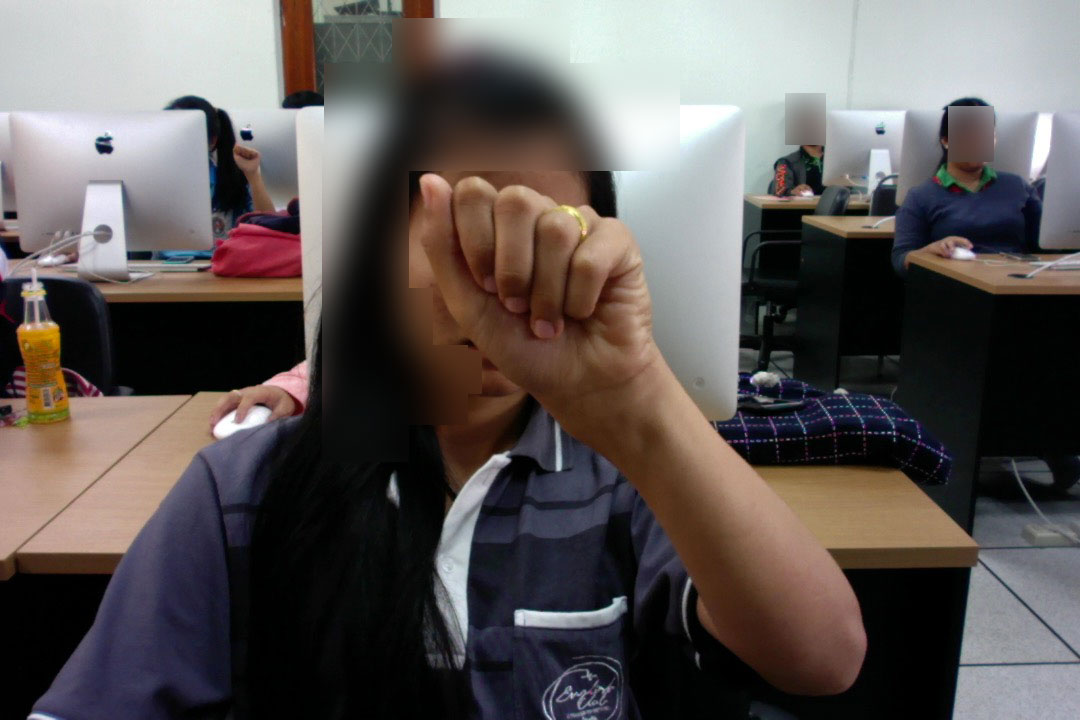or: (407, 164, 665, 440)
